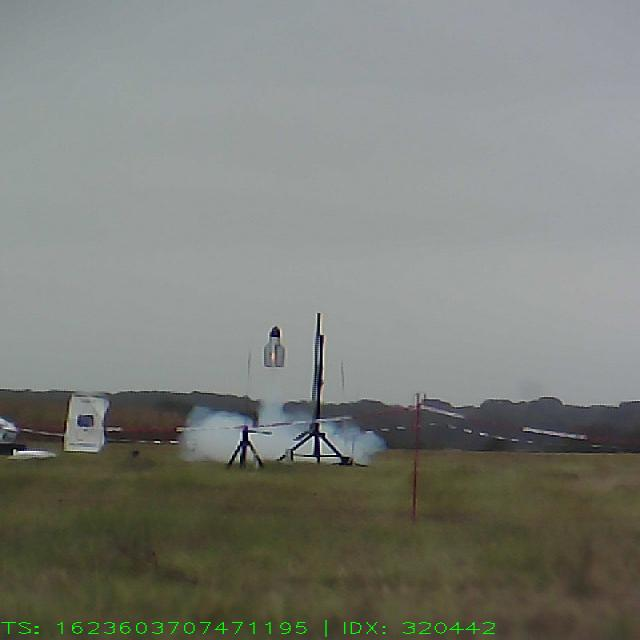Rocket: (262, 326, 286, 368)
